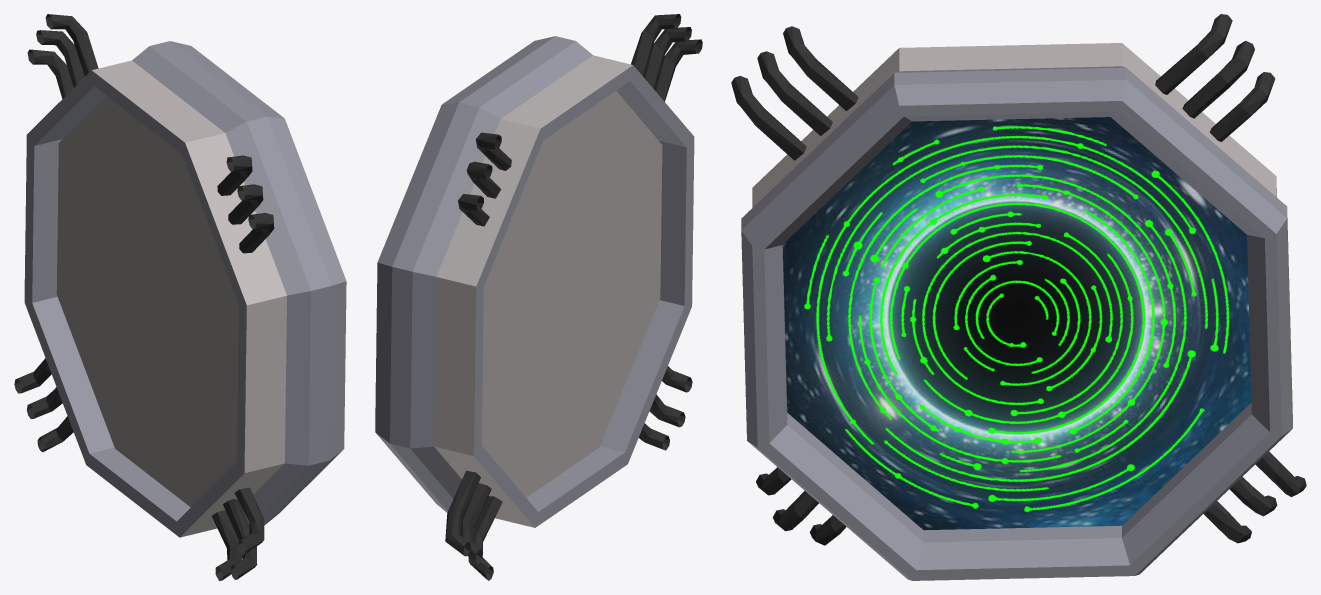
Rendered from bluePortal.glb.
The picture shows the model from 3 angles, left to right: view 1: azimuth 30°, elevation 25°; view 2: azimuth 150°, elevation 25°; view 3: azimuth 270°, elevation 25°; orthographic projection. The views are drawn at different scales.
Visible parts, largest first — view 1: Plane.002, Plane.003, cable.011; view 2: Plane.002, Plane.003, cable.011; view 3: Plane.004, Plane.002, Plane.001, cable.011.
Boxes of the visible parts, x1,y1,x2,y2 form: Plane.002: [24, 41, 346, 537]; Plane.003: [56, 96, 238, 507]; cable.011: [14, 14, 274, 580]; Plane.002: [375, 36, 694, 527]; Plane.003: [481, 91, 662, 497]; cable.011: [445, 14, 702, 580]; Plane.004: [782, 117, 1251, 530]; Plane.002: [741, 43, 1292, 580]; Plane.001: [804, 126, 1229, 511]; cable.011: [731, 14, 1306, 545].
Size of what is drawn, in the model's own units: 1.48 by 6.26 by 6.19.
3 materials, 3 textured.
